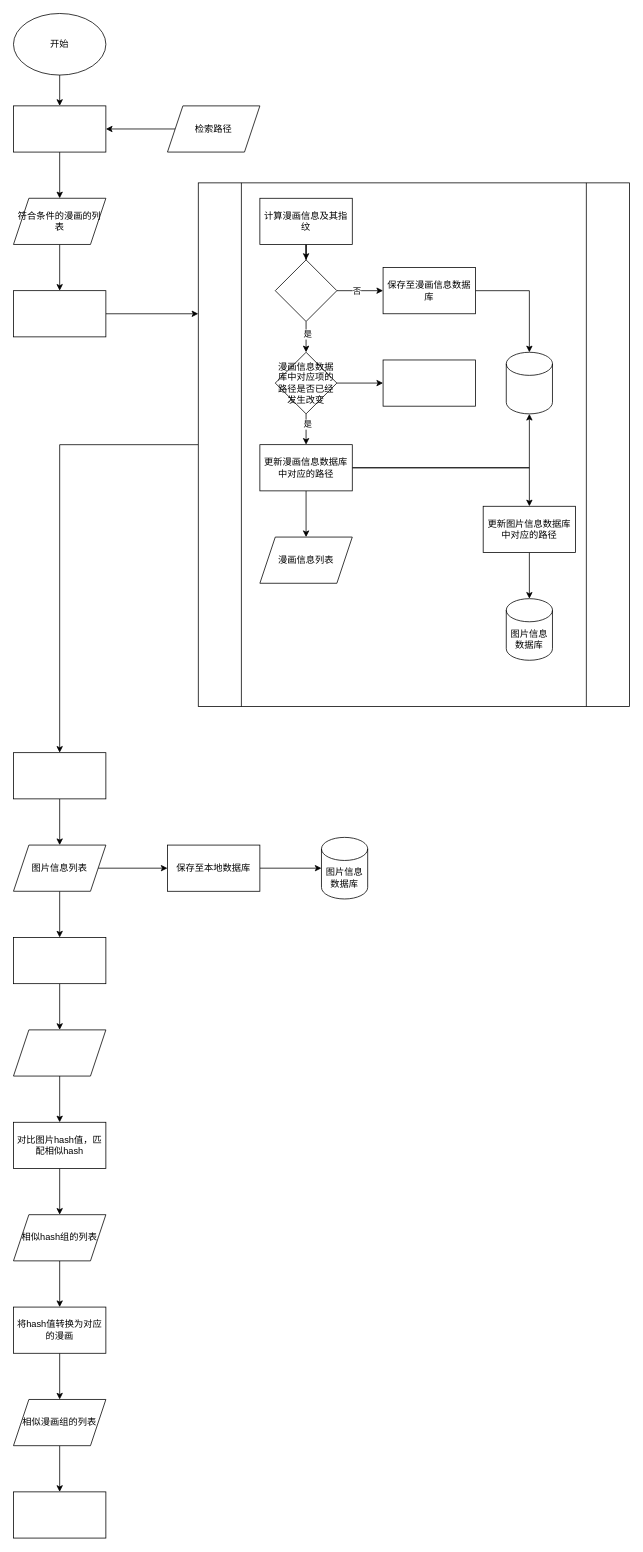
The diagram is 643 pixels wide and 1552 high, and some of its shapes have lost their labels. The shapes that lost their labels are listed below. From the top down, each one's centre as x and y in pixels, then its label:
At (59,128): "搜索漫画".
At (306,290): "是否已 存在于漫画信息数据库中".
At (59,313): "分析漫画信息".
At (428,382): "不进行处理".
At (529,383): "漫画信息数据库".
At (59,775): "分析指定数量的图片信息".
At (59,960): "提取图片信息列表中的hash值".
At (59,1052): "图片hash值列表".
At (59,1514): "在UI中显示相似组".
